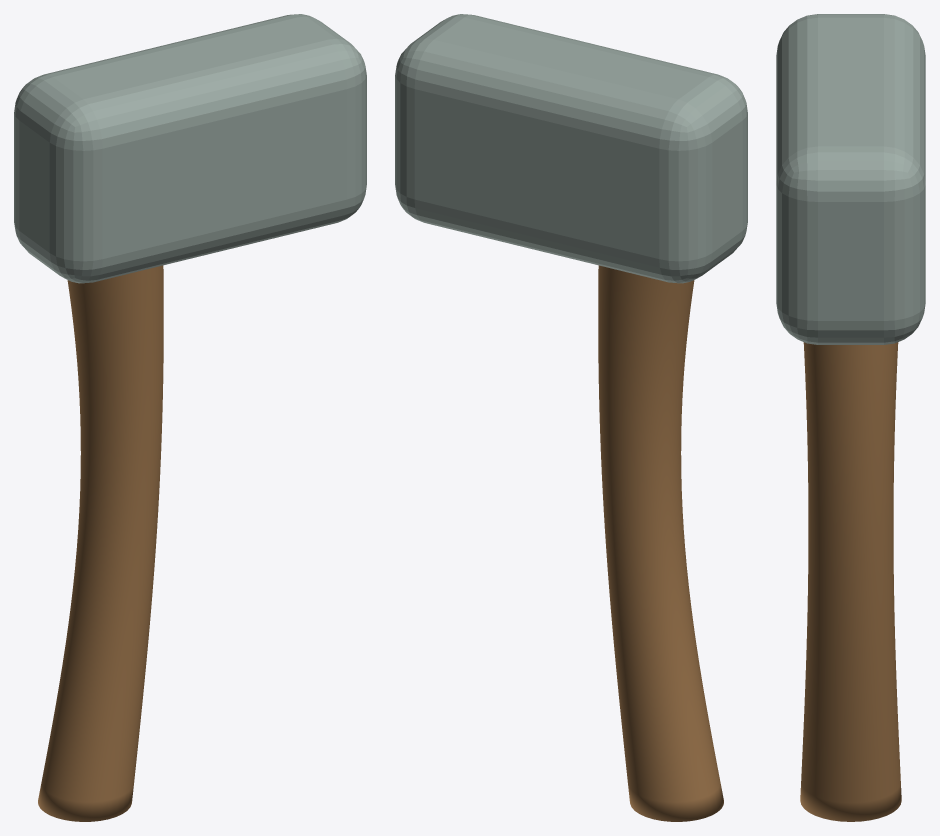
Rendered from direct-3000.glb.
3 renders of one model, left to right at view 1: azimuth 30°, elevation 25°; view 2: azimuth 150°, elevation 25°; view 3: azimuth 270°, elevation 25°, orthographic. The views are drawn at different scales.
Visible parts, largest first — view 1: Cube.001, Handle.001; view 2: Cube.001, Handle.001; view 3: Cube.001, Handle.001.
Part boxes in pixels (box(x1,y1,x2,y2)): Cube.001: box(14, 14, 366, 283); Handle.001: box(38, 265, 163, 821); Cube.001: box(395, 14, 747, 283); Handle.001: box(598, 265, 723, 821); Cube.001: box(776, 14, 925, 344); Handle.001: box(800, 342, 901, 821).
Size of the model in its own units: 0.65 by 1.43 by 0.25.
